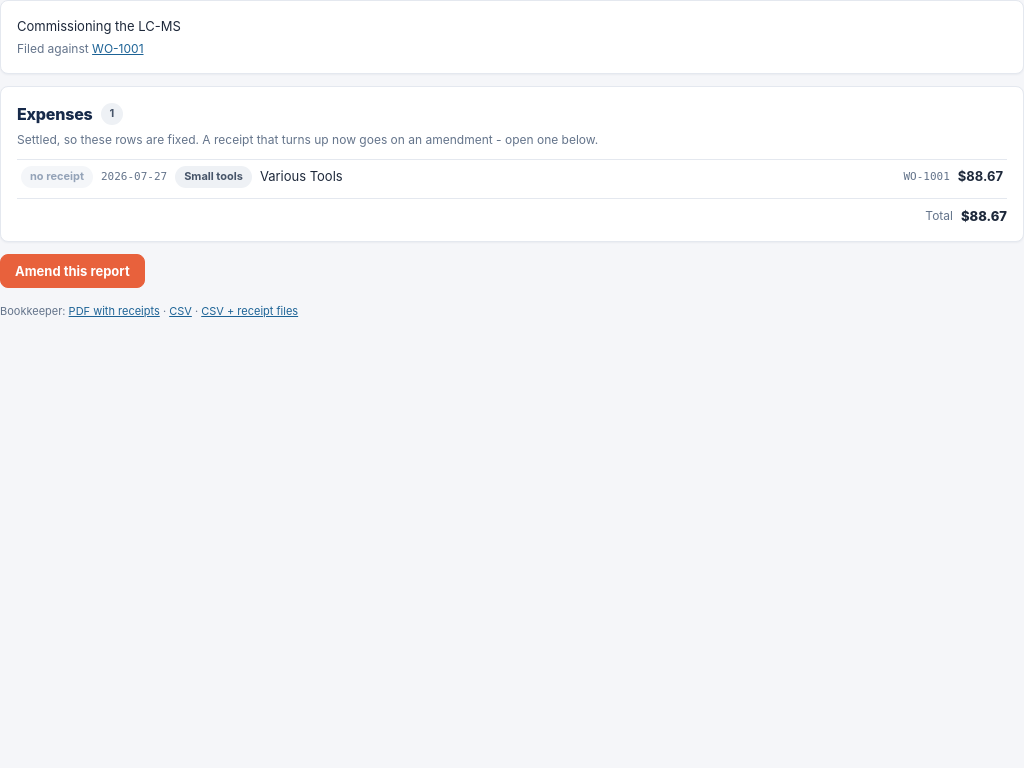
a claim that has been sent › offers no way to add or remove anything on it
The image size is (1024, 768).
Click the text "Various Tools" at [301, 176], box [260,168,343,184]
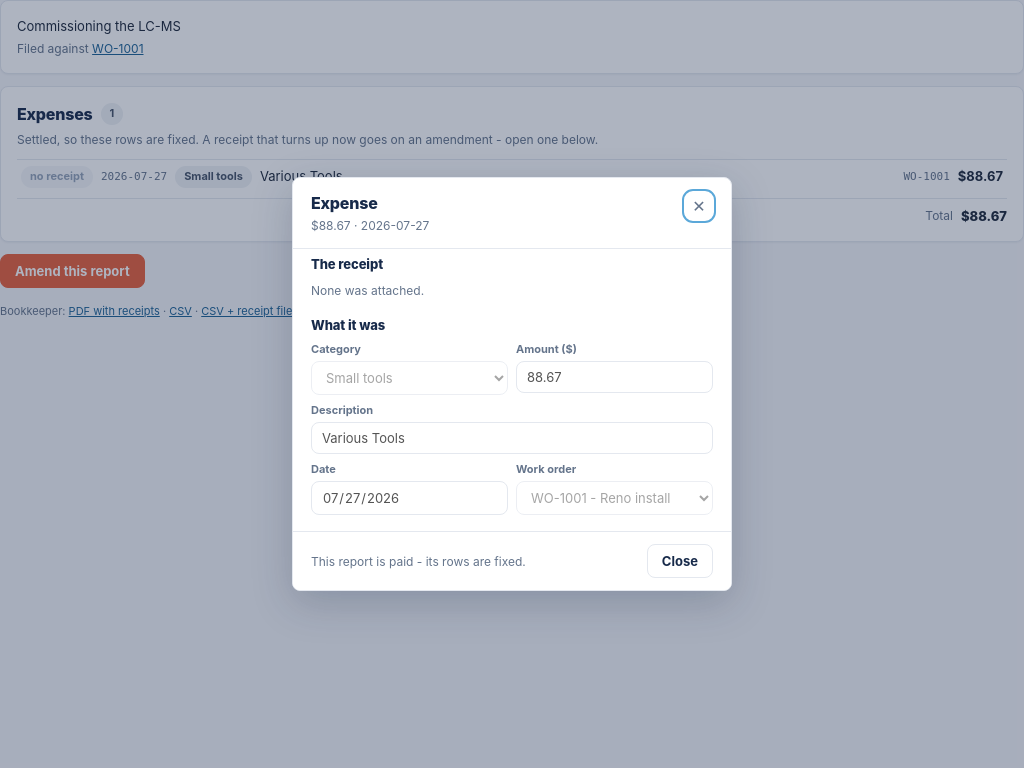
Expected: the text "This report is paid - its rows are fixed." is shown, [311,554,526,568]
